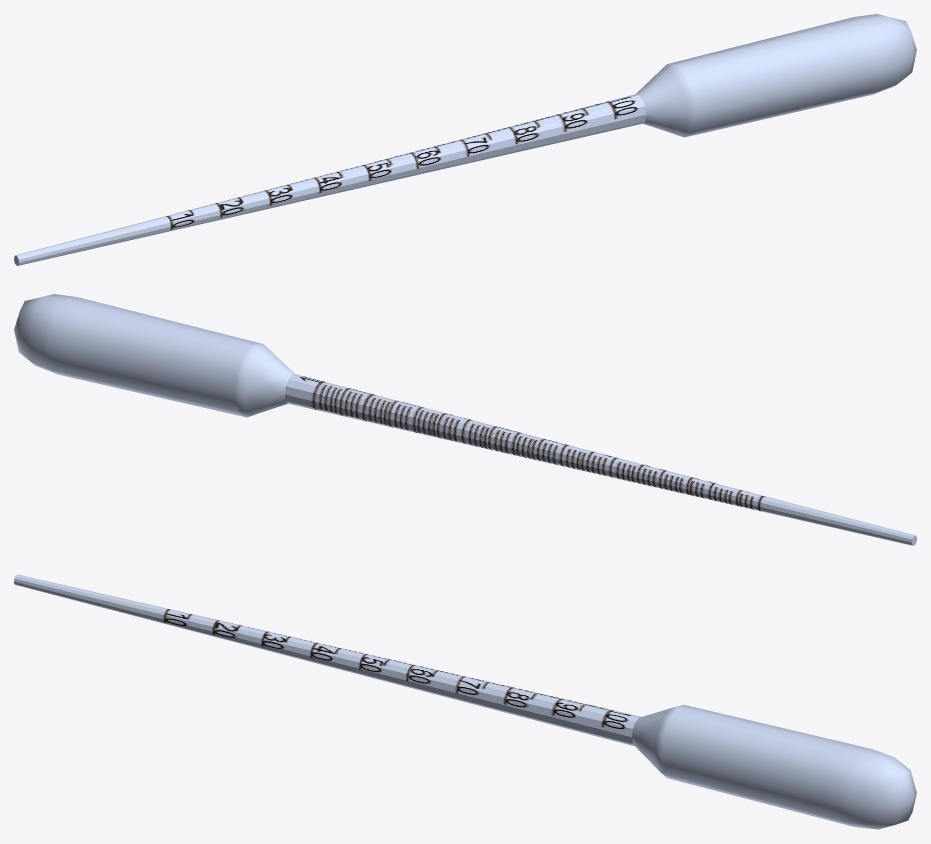
Rendered from pipette03.fbx.
3 renders of one model, top to bottom at view 1: azimuth 30°, elevation 25°; view 2: azimuth 150°, elevation 25°; view 3: azimuth 330°, elevation 25°, orthographic.
Parts seen in each view (by area): view 1: Pipette_03; view 2: Pipette_03; view 3: Pipette_03.
Boxes of the visible parts, left/top/right/bottom form: Pipette_03: left=14, top=14, right=916, bottom=265; Pipette_03: left=14, top=294, right=916, bottom=545; Pipette_03: left=14, top=574, right=916, bottom=829.
Size of the model in its own units: 0.1775 by 0.0132 by 0.0134.
